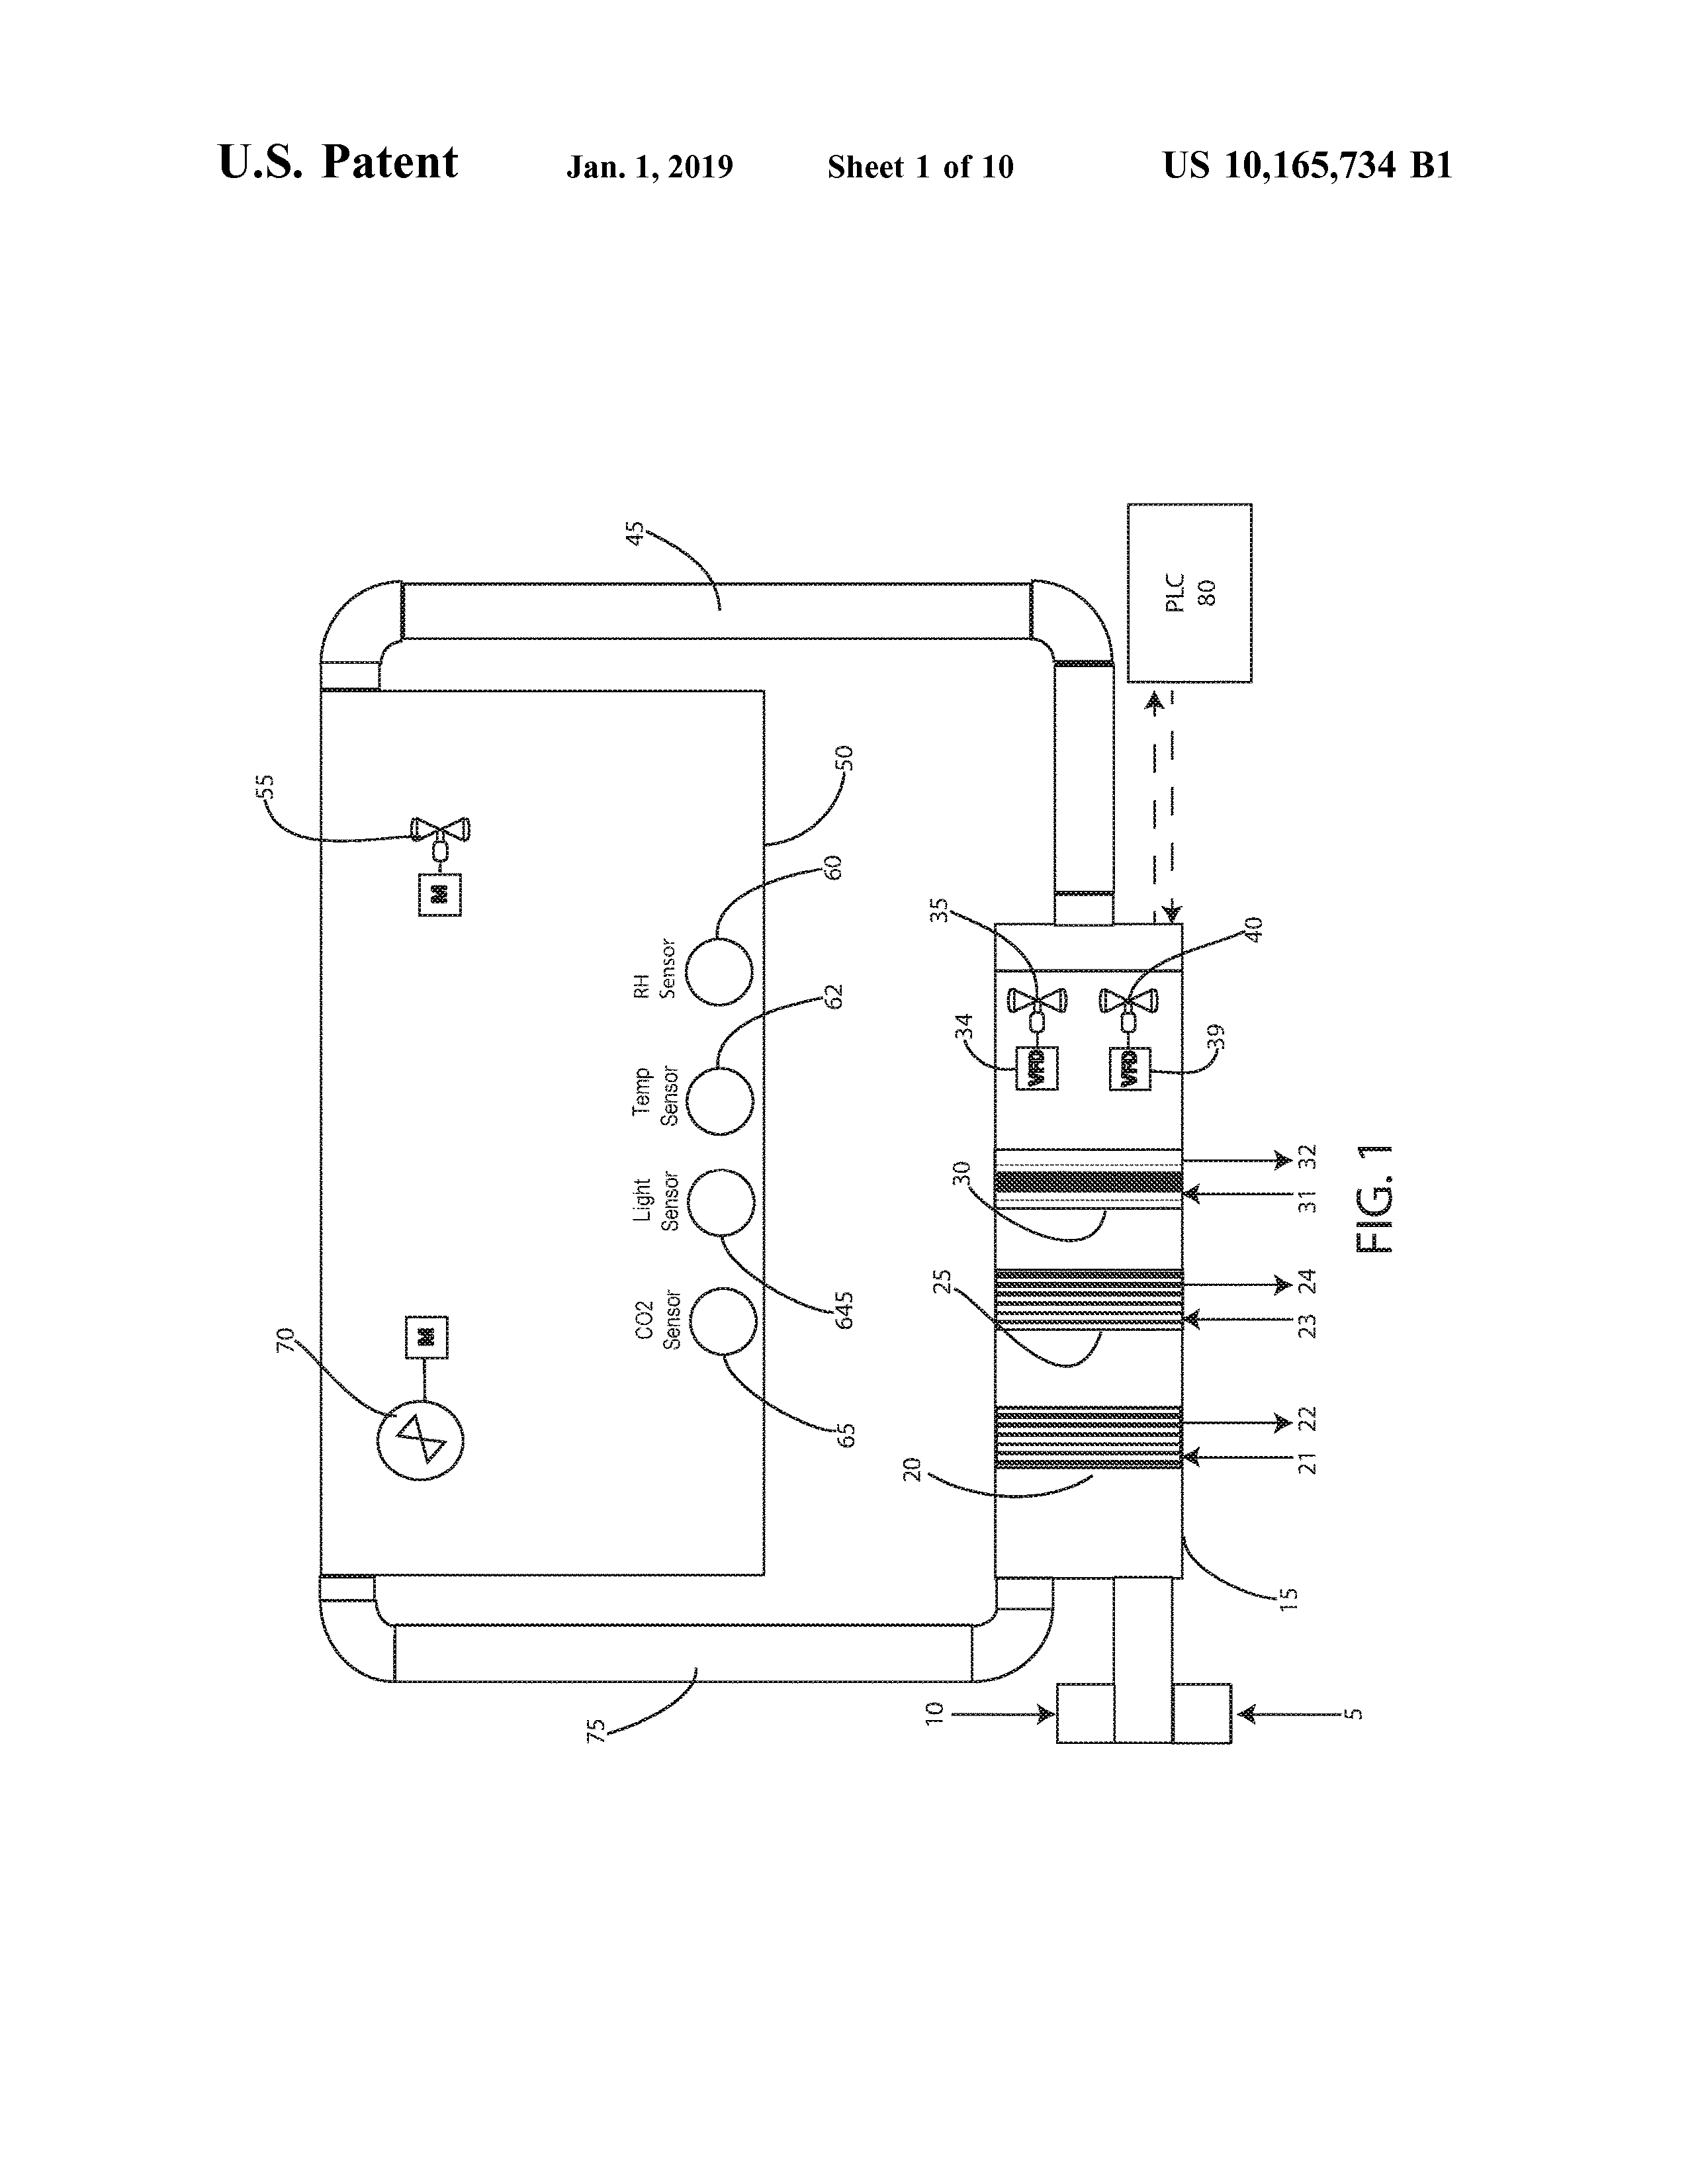patent image: (206, 446, 1472, 1798)
